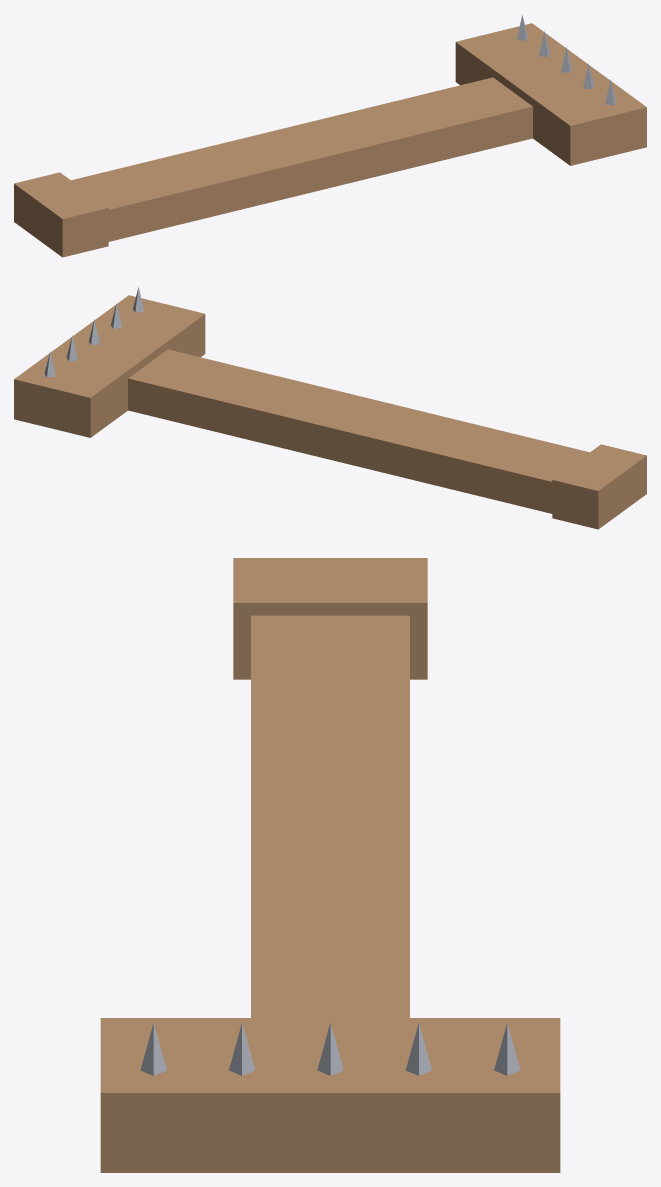
File: prop-webbing-stretcher.fbx
3 renders of one model, top to bottom at view 1: azimuth 30°, elevation 25°; view 2: azimuth 150°, elevation 25°; view 3: azimuth 270°, elevation 25°, orthographic. The views are drawn at different scales.
Parts seen in each view (by area): view 1: prop-webbing-stretcher; view 2: prop-webbing-stretcher; view 3: prop-webbing-stretcher.
Boxes of the visible parts, bbox=[...] form: prop-webbing-stretcher: bbox=[14, 15, 646, 257]; prop-webbing-stretcher: bbox=[14, 287, 646, 529]; prop-webbing-stretcher: bbox=[100, 558, 560, 1172].
Size of the model in its own units: 36 by 4 by 13.
